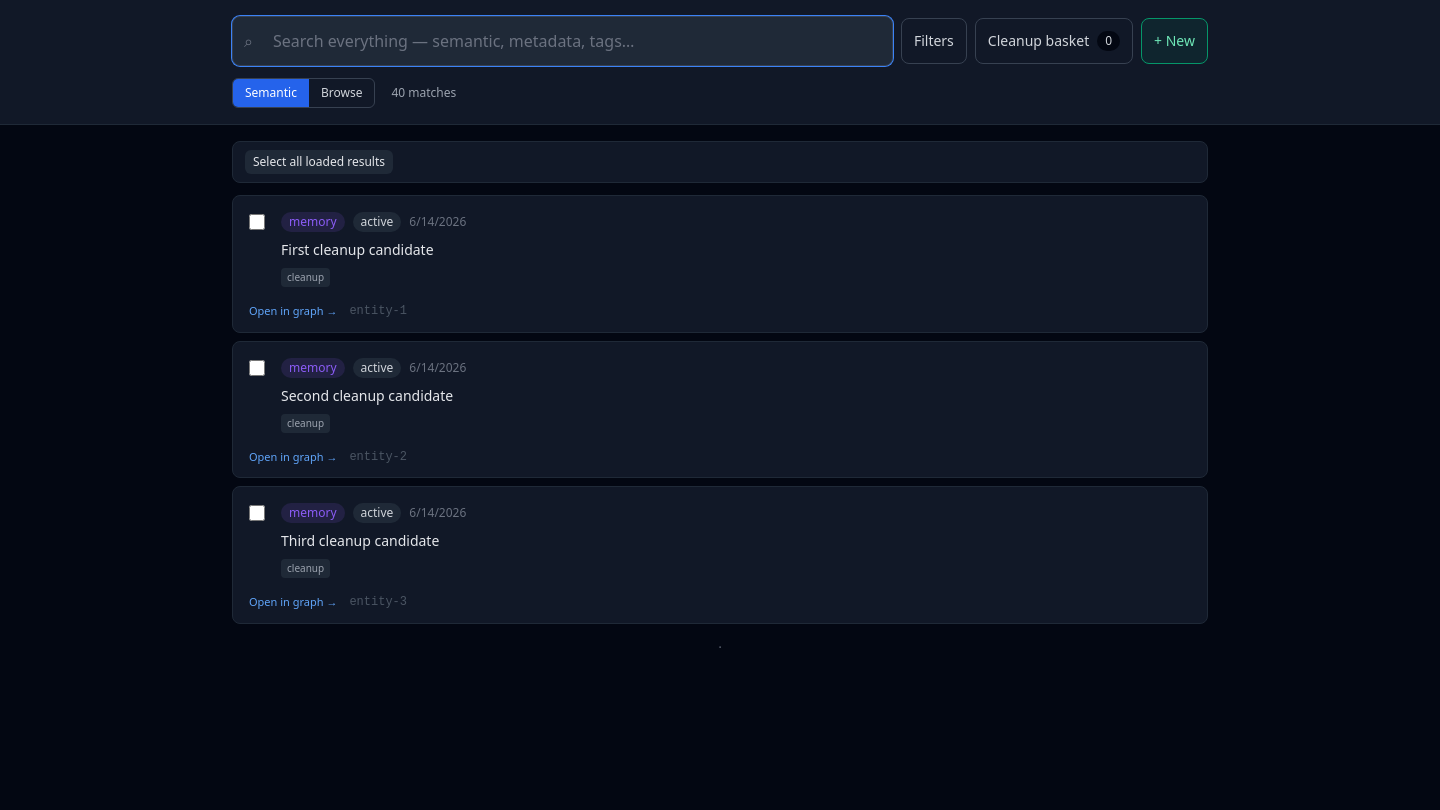
Scenario: SearchPage result selection › selects all loaded visible results without selecting unloaded results
expect the text "First cleanup candidate" is shown: met, box [281,240,434,260]
Step 1. Click the button "Select all loaded results" → (319, 162), box [245,150,393,174]
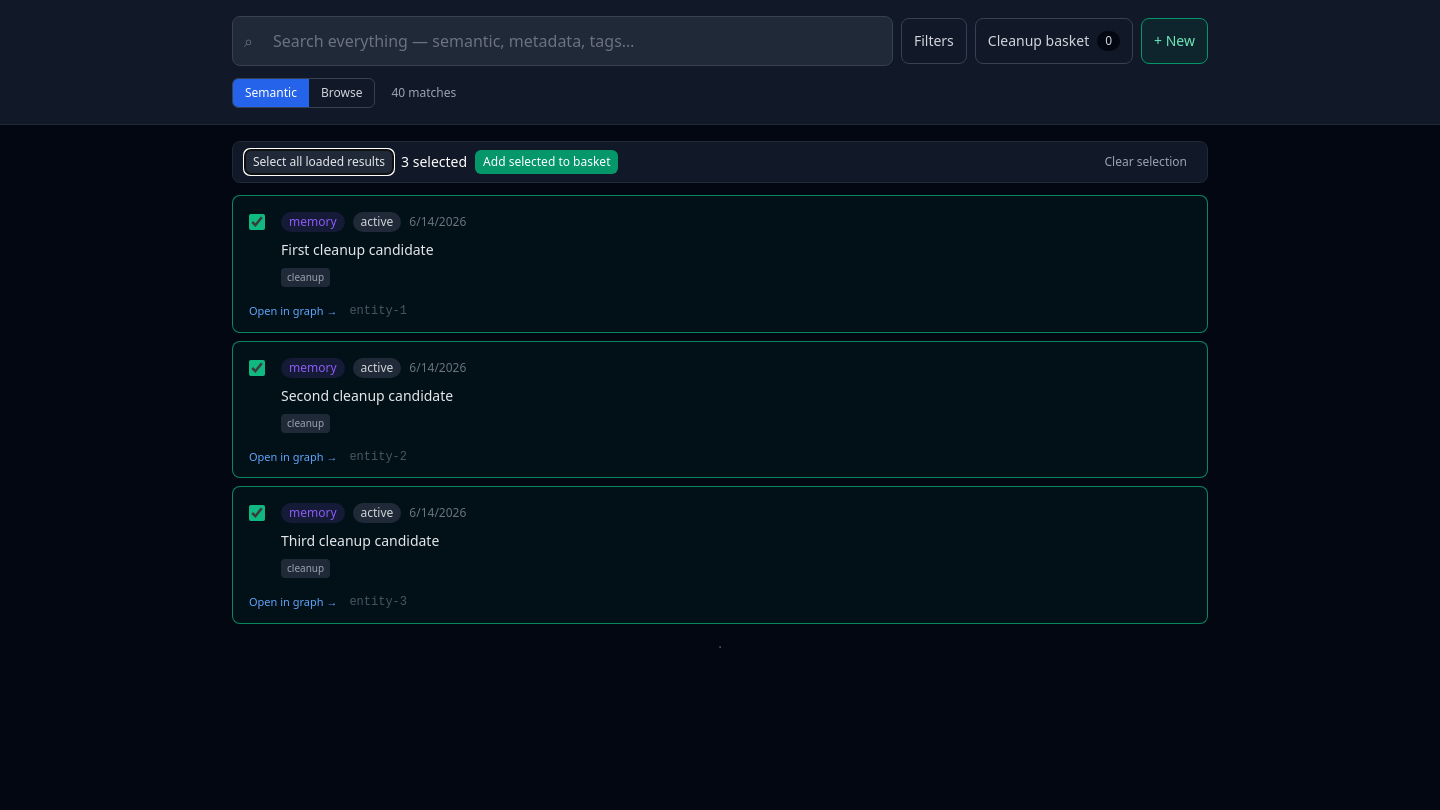
expect the checkbox named "Select First cleanup candidate" is checked: met, box [249,214,265,230]
expect the checkbox named "Select Second cleanup candidate" is checked: met, box [249,360,265,376]
expect the checkbox named "Select Third cleanup candidate" is checked: met, box [249,505,265,521]
